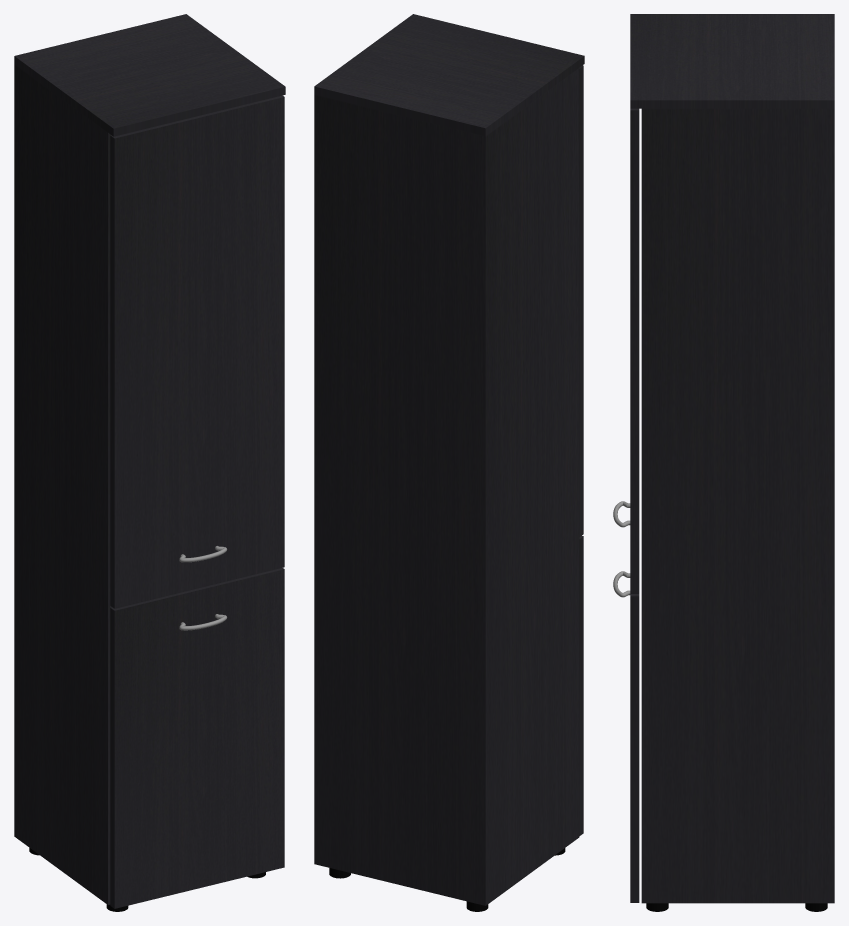
File: mobile45198W.obj
3 views of the same model, side by side, from view 1: azimuth 30°, elevation 25°; view 2: azimuth 150°, elevation 25°; view 3: azimuth 270°, elevation 25° (orthographic). The views are drawn at different scales.
Parts seen in each view (by area): view 1: Box54_9, Box52_6, Box53_7, Box55_10; view 2: Box52_6, Box55_10, Box54_9, Box53_7; view 3: Box52_6, Box55_10, Box54_9, Box53_7.
Part boxes in pixels (x1,y1,x2,y2): Box54_9: (110, 95, 284, 608); Box52_6: (14, 64, 111, 904); Box53_7: (110, 568, 284, 908); Box55_10: (14, 14, 285, 136); Box52_6: (314, 68, 579, 905); Box55_10: (314, 14, 584, 136); Box54_9: (579, 65, 583, 536); Box53_7: (579, 536, 583, 836); Box52_6: (641, 108, 834, 903); Box55_10: (630, 14, 834, 108); Box54_9: (630, 108, 639, 593); Box53_7: (630, 594, 639, 902).
Bounding box in the file's own units: 45 × 198 × 48.75.
